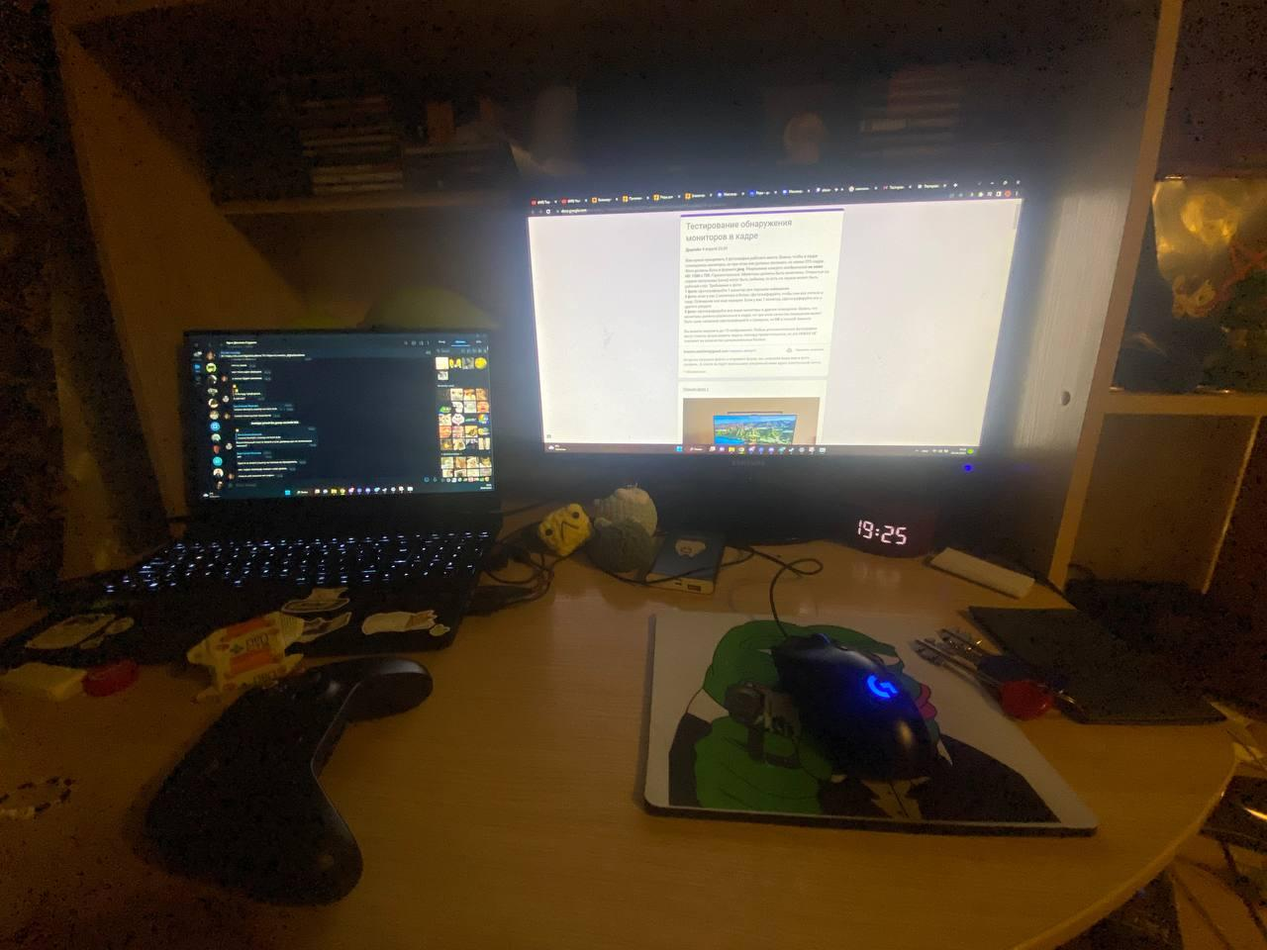monitor: (488, 165, 1034, 548), (173, 323, 510, 554)
